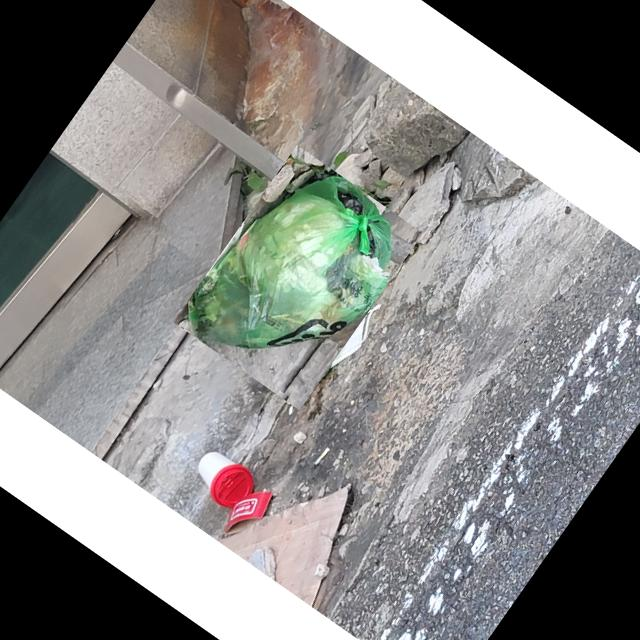general_trashbag: (188, 176, 390, 350)
